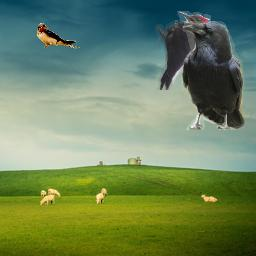Crow: (181, 21, 245, 130)
Swallow: (36, 23, 81, 50)
Woodpecker: (155, 11, 211, 90)
